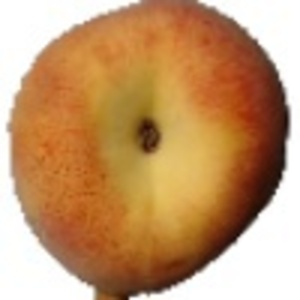pêssego: (1, 1, 291, 300)
